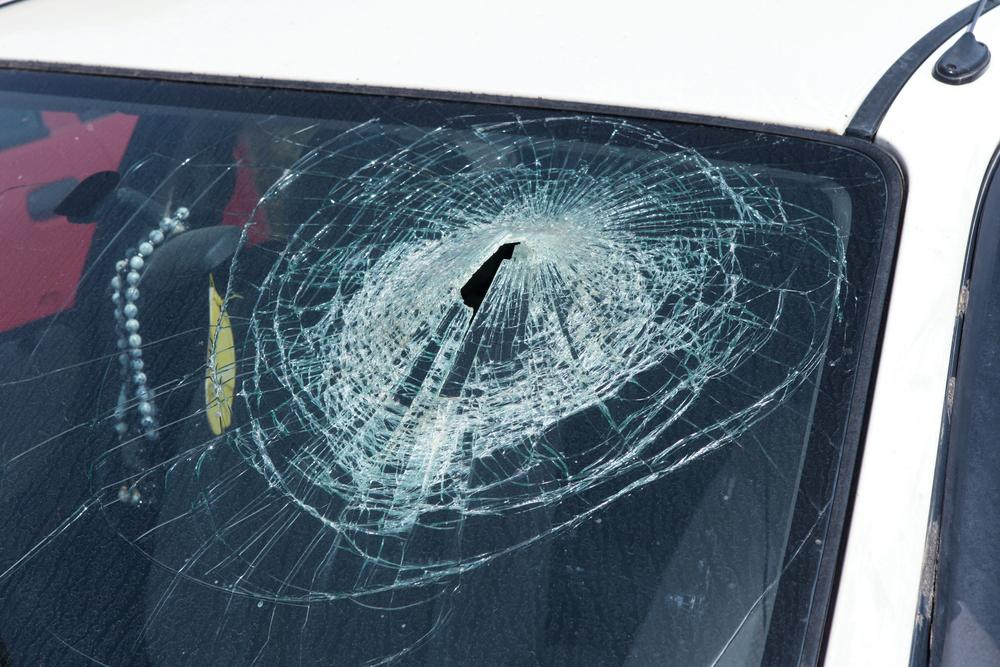glass shatter: (0, 66, 888, 667)
